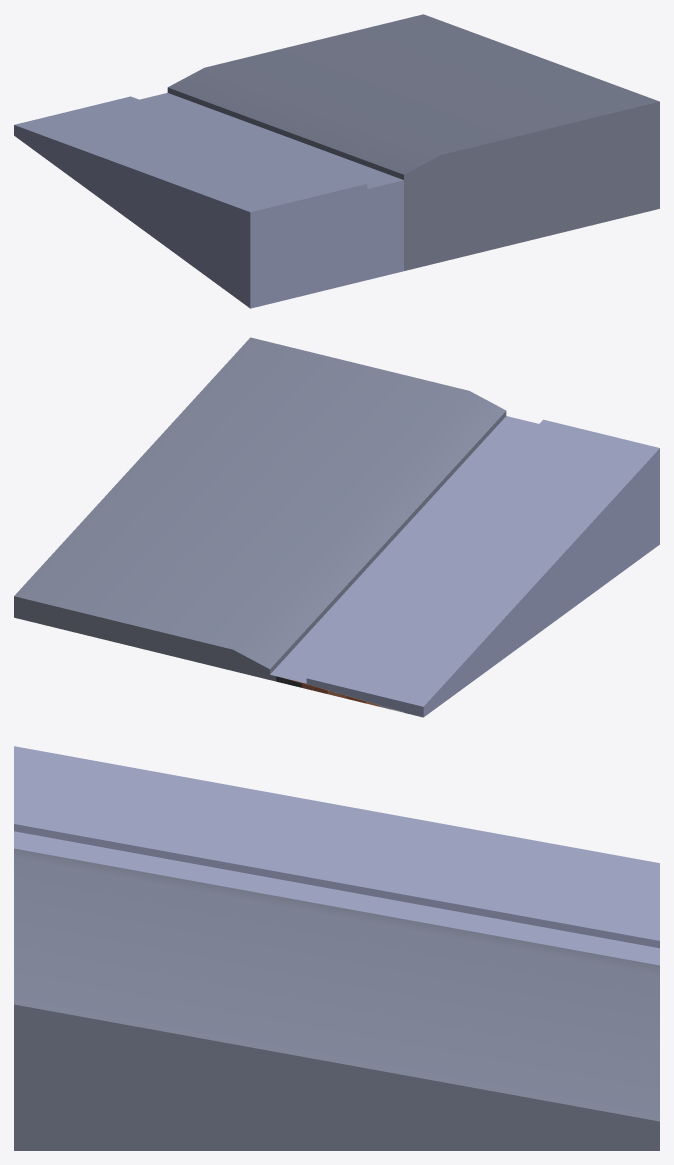
Rendered from kenney-fantasy-town-road-edge-slope.glb.
3 views of the same model, one above another, from view 1: azimuth 30°, elevation 25°; view 2: azimuth 150°, elevation 25°; view 3: azimuth 270°, elevation 25° (orthographic). The views are drawn at different scales.
Parts seen in each view (by area): view 1: road-edge-slope; view 2: road-edge-slope; view 3: road-edge-slope.
Part boxes in pixels (bbox=[...]): road-edge-slope: bbox=[14, 14, 659, 308]; road-edge-slope: bbox=[14, 337, 659, 717]; road-edge-slope: bbox=[14, 746, 659, 1150].
Bounding box in the file's own units: 1 × 0.25 × 1.
1 material, 1 textured.
